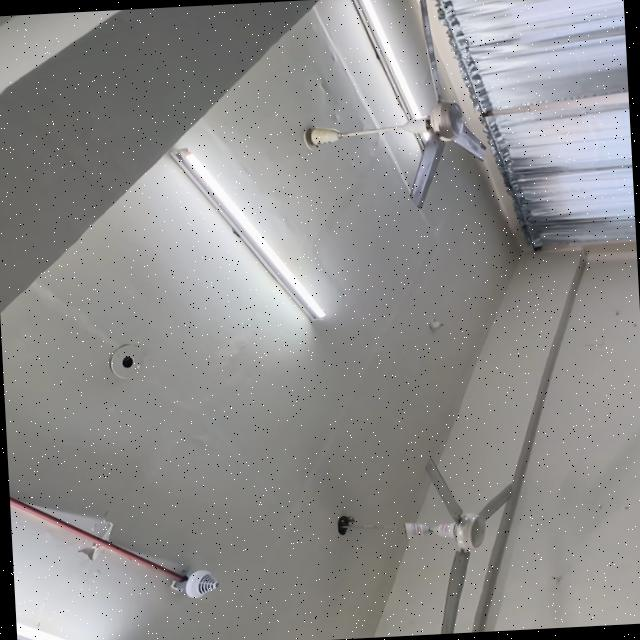Light: (168, 148, 325, 319), (351, 0, 432, 147), (15, 622, 67, 640)
